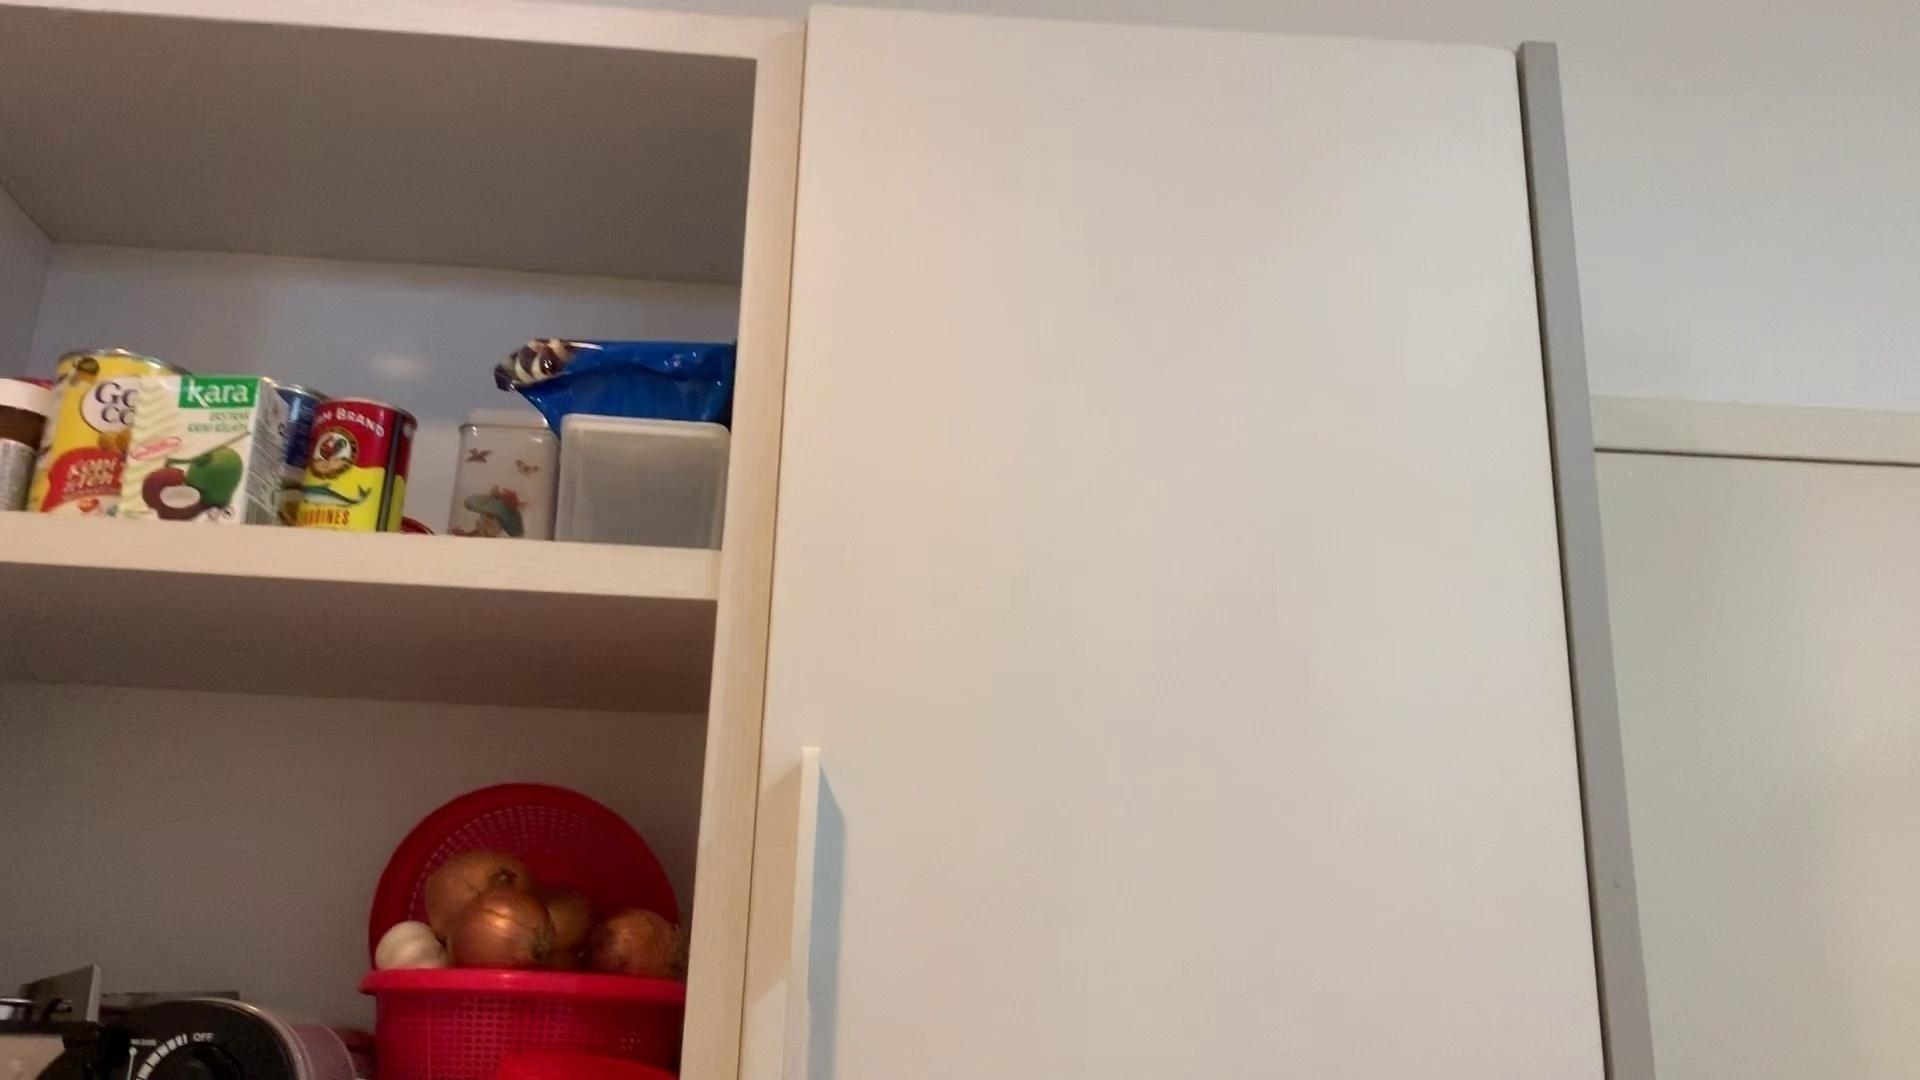cabinet_door: (799, 13, 1551, 1080), (1614, 479, 1917, 1080), (1581, 16, 1917, 462)
handle: (769, 731, 833, 1080)
